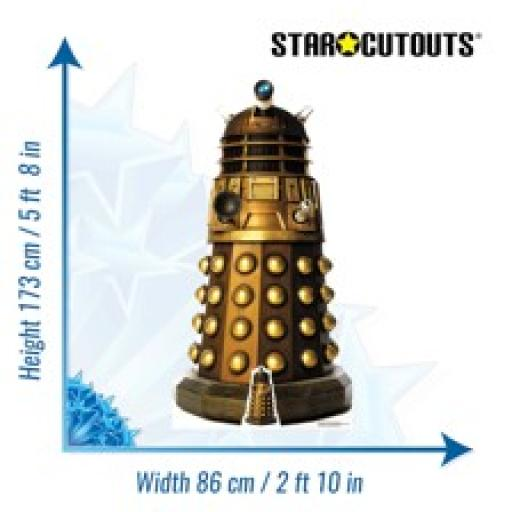dalek: (173, 72, 358, 428)
